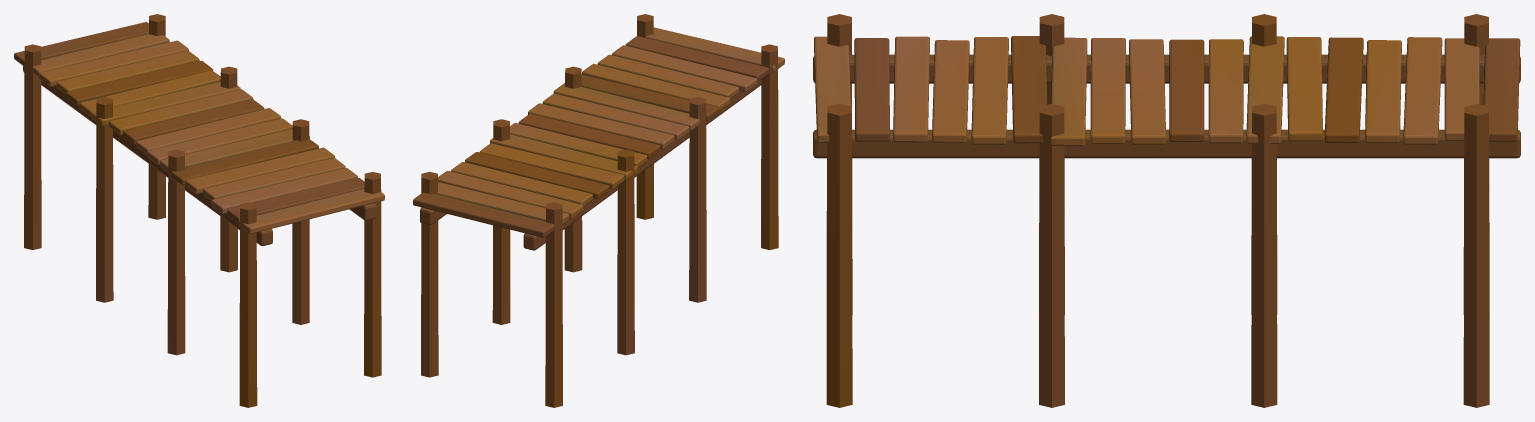
File: Jetty_01.glb
The picture shows the model from 3 angles, left to right: view 1: azimuth 30°, elevation 25°; view 2: azimuth 150°, elevation 25°; view 3: azimuth 270°, elevation 25°; orthographic projection. The views are drawn at different scales.
Visible parts, largest first — view 1: Jetty_01; view 2: Jetty_01; view 3: Jetty_01.
Boxes of the visible parts, x1,y1,x2,y2 form: Jetty_01: (14,14,384,407); Jetty_01: (413,14,784,407); Jetty_01: (813,14,1520,407).
Bounding box in the file's own units: 1.37 × 1.82 × 4.
